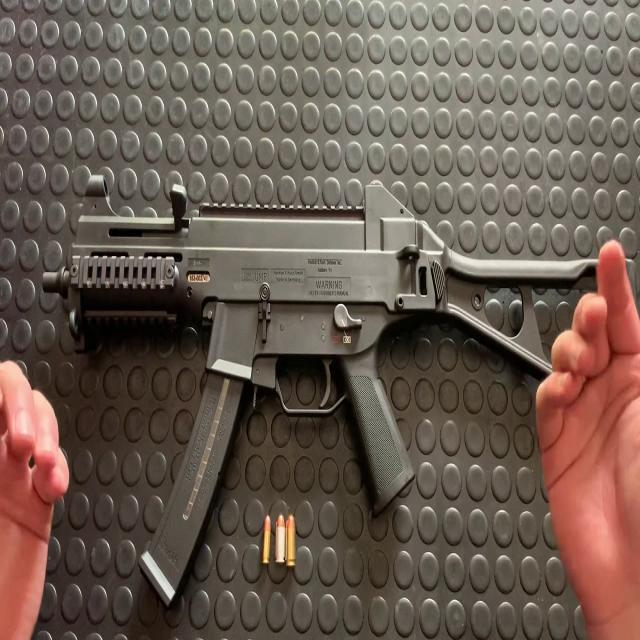SMG: (40, 184, 600, 608)
